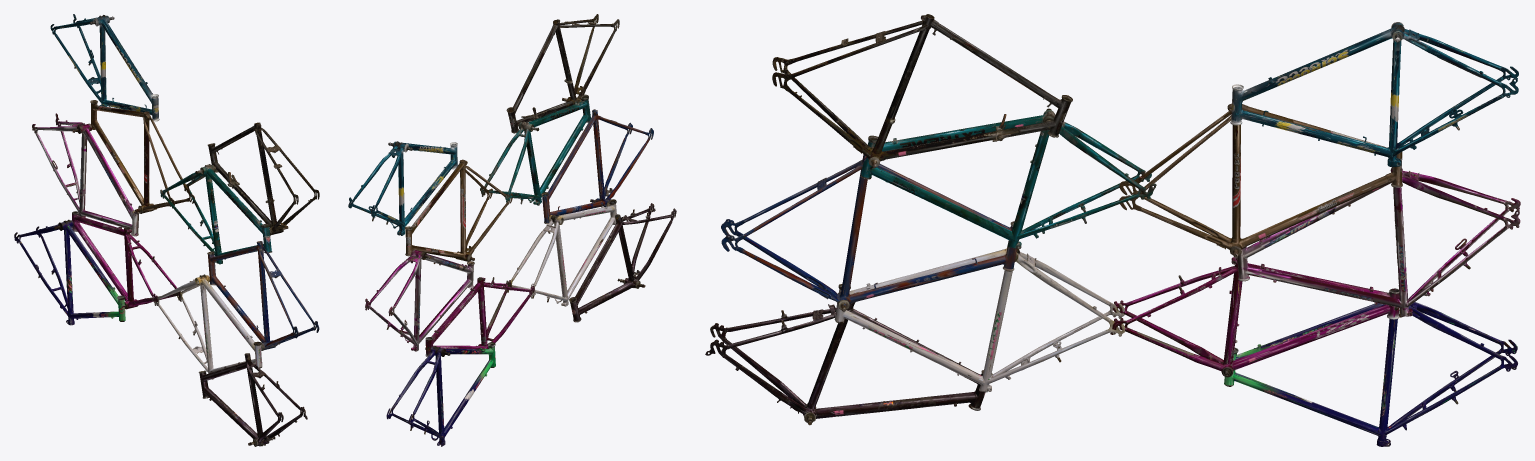
The model's file is FrameStructure_test_v3_vertical.glb.
3 renders of one model, left to right at view 1: azimuth 30°, elevation 25°; view 2: azimuth 150°, elevation 25°; view 3: azimuth 270°, elevation 25°, orthographic. The views are drawn at different scales.
Bounding box in the file's own units: 0.3784 × 1.76 × 2.84.
10 materials, 10 textured.
